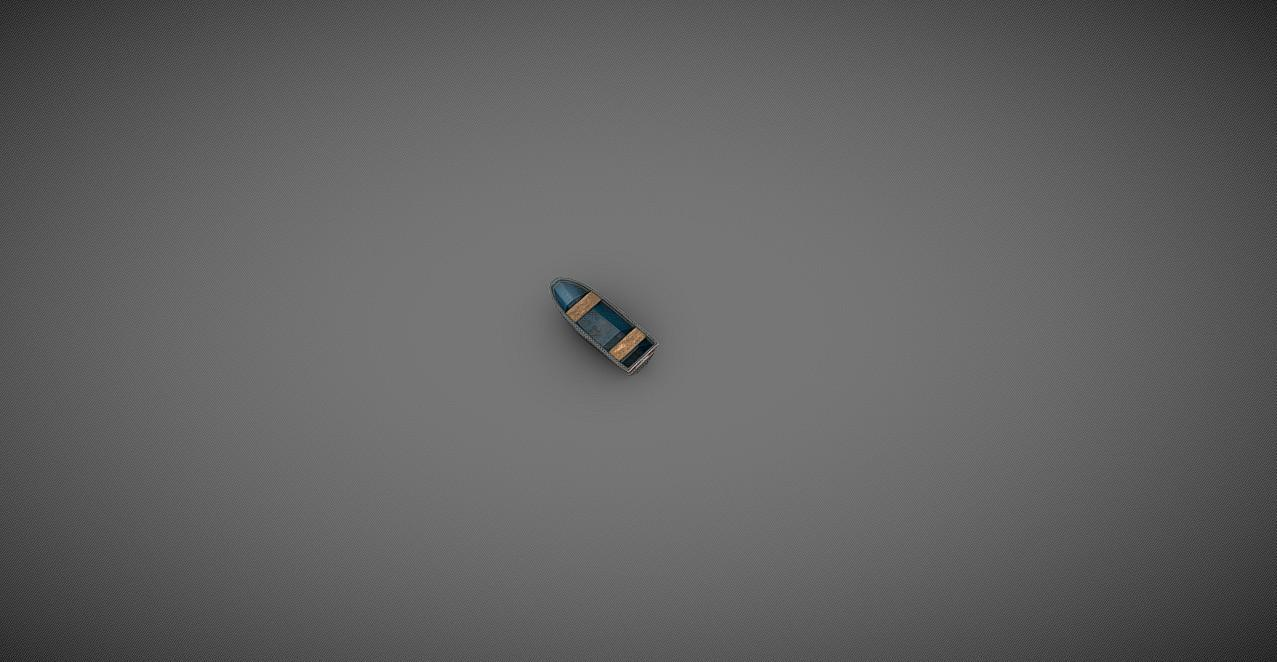Boat: (549, 275, 658, 376)
